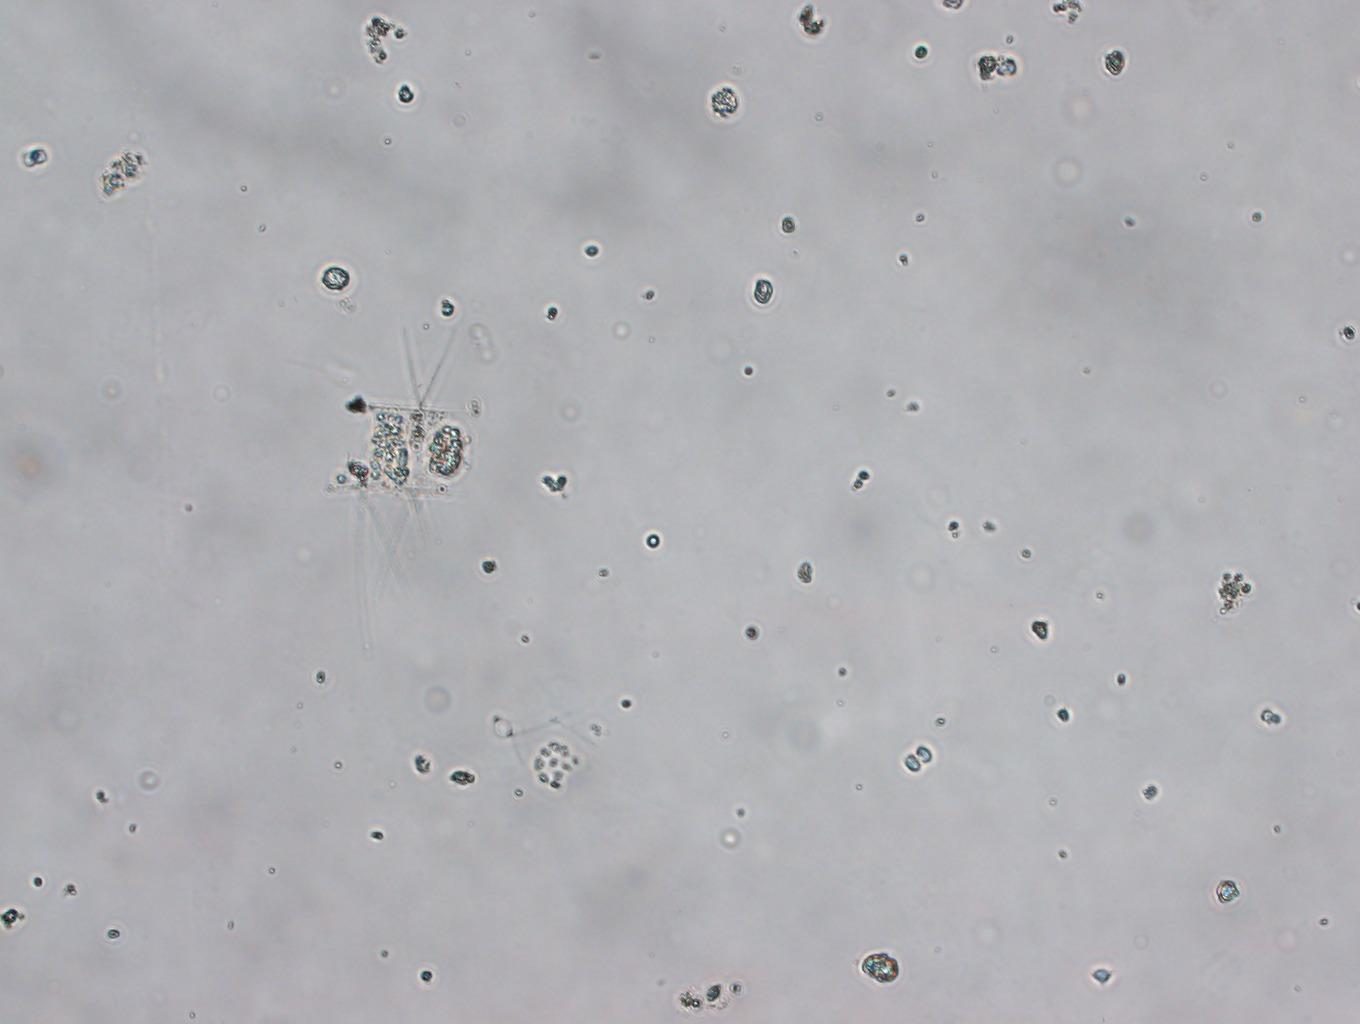chaetoceros: (318, 314, 526, 605)
